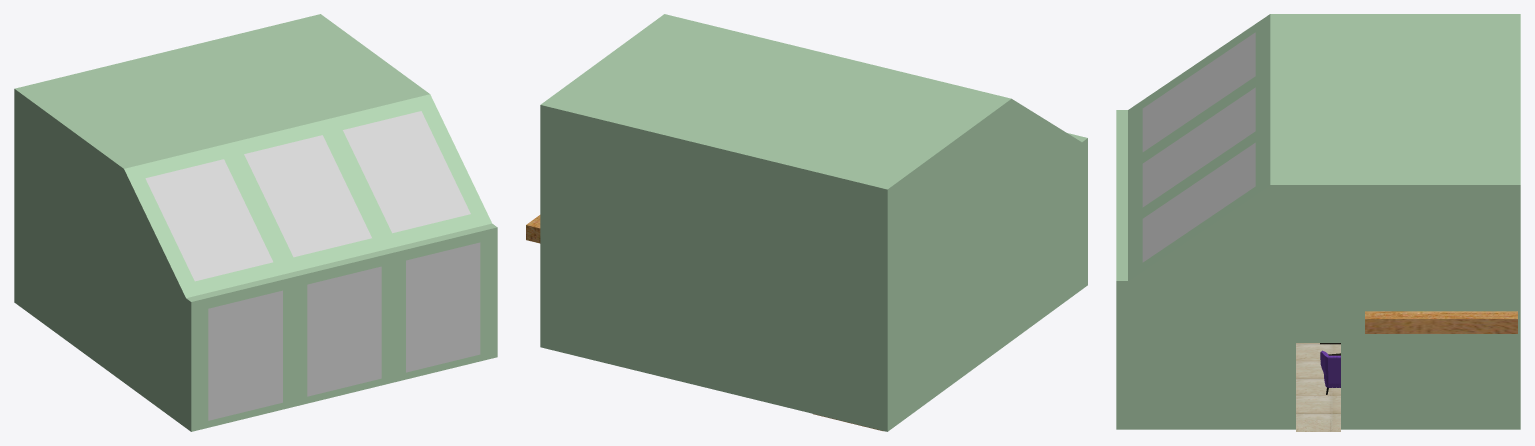
File: apartment.fbx
3 views of the same model, side by side, from view 1: azimuth 30°, elevation 25°; view 2: azimuth 150°, elevation 25°; view 3: azimuth 270°, elevation 25° (orthographic). The views are drawn at different scales.
Visible parts, largest first — view 1: Apartment, Windows2, Windows1; view 2: Apartment; view 3: Apartment, Windows2, Upstairs, Apartment.001, Box004.001.
Boxes of the visible parts, x1,y1,x2,y2 form: Apartment: (14,14,497,431); Windows2: (145,111,470,281); Windows1: (208,242,480,420); Apartment: (540,14,1087,431); Apartment: (1116,14,1520,429); Windows2: (1142,32,1255,262); Upstairs: (1365,311,1517,333); Apartment.001: (1296,343,1340,431); Box004.001: (1320,350,1340,394).
Size of the model in its own units: 921 by 592 by 881.
